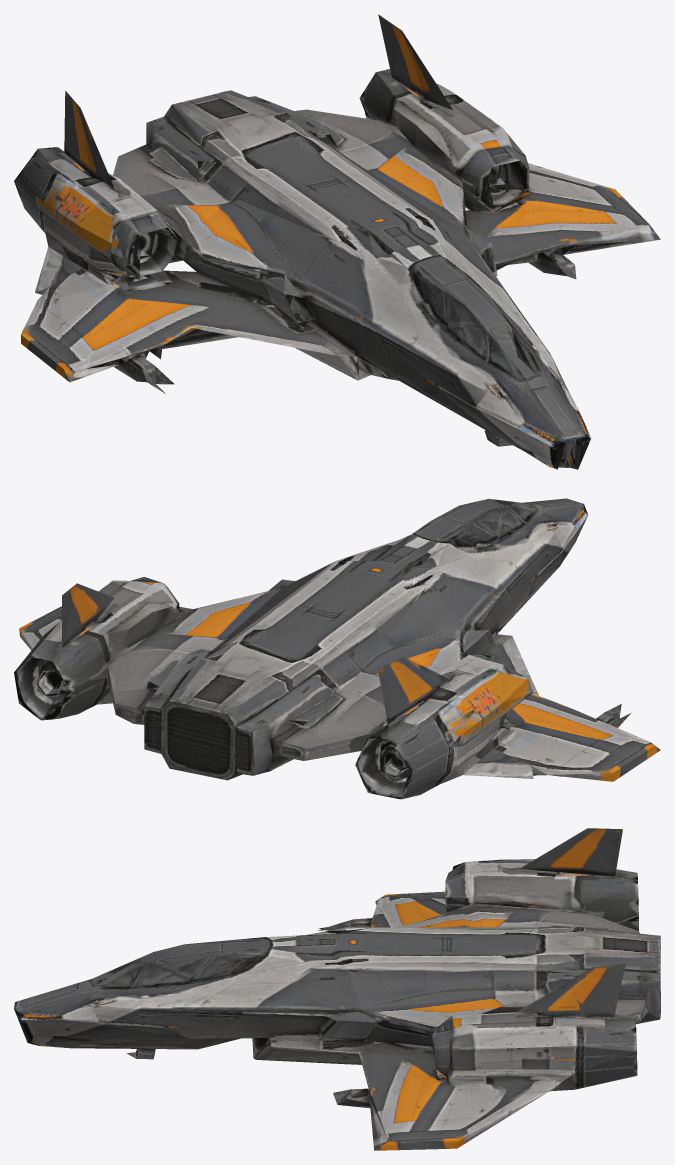
File: fighter-low.glb
3 renders of one model, top to bottom at view 1: azimuth 30°, elevation 25°; view 2: azimuth 150°, elevation 25°; view 3: azimuth 270°, elevation 25°, orthographic. The views are drawn at different scales.
Parts seen in each view (by area): view 1: Low; view 2: Low; view 3: Low.
Part boxes in pixels (x1=…): Low: x1=14, y1=14, x2=660, y2=469; Low: x1=14, y1=498, x2=660, y2=799; Low: x1=14, y1=828, x2=660, y2=1150.
Size of the model in its own units: 1.64 by 0.4918 by 1.8.
Materials: 1 (1 with a texture image).
